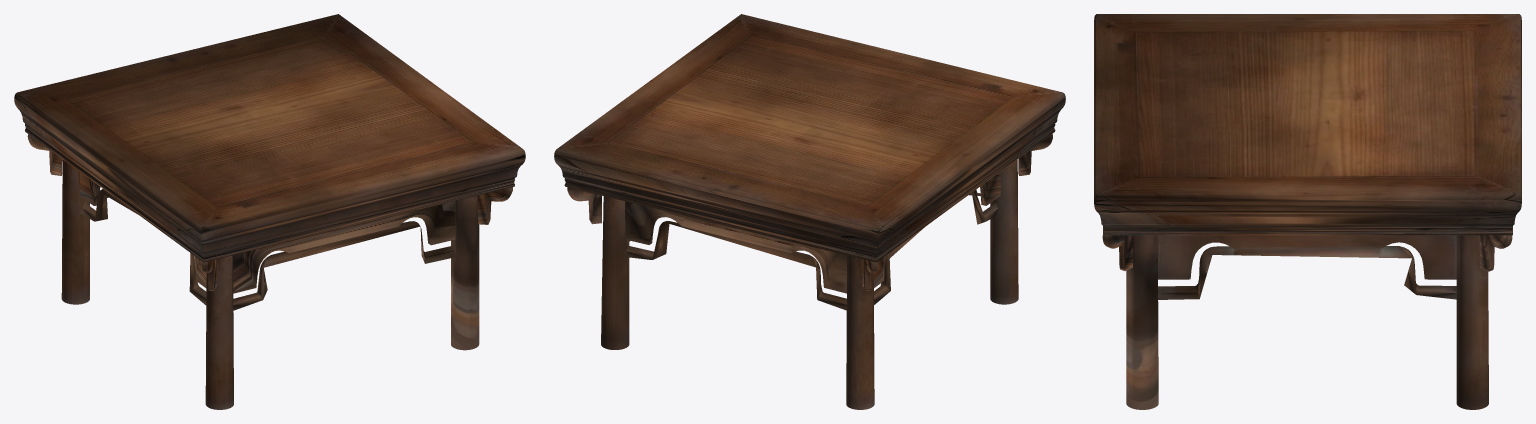
File: chinese_tea_table.glb
3 renders of one model, left to right at view 1: azimuth 30°, elevation 25°; view 2: azimuth 150°, elevation 25°; view 3: azimuth 270°, elevation 25°, orthographic. The views are drawn at different scales.
Visible parts, largest first — view 1: chinese_tea_table; view 2: chinese_tea_table; view 3: chinese_tea_table.
Part boxes in pixels (bbox=[...]): chinese_tea_table: bbox=[14, 14, 525, 409]; chinese_tea_table: bbox=[554, 14, 1065, 409]; chinese_tea_table: bbox=[1094, 14, 1521, 409].
Size of the model in its own units: 0.8413 by 0.4963 by 0.8357.
1 material, 1 textured.
